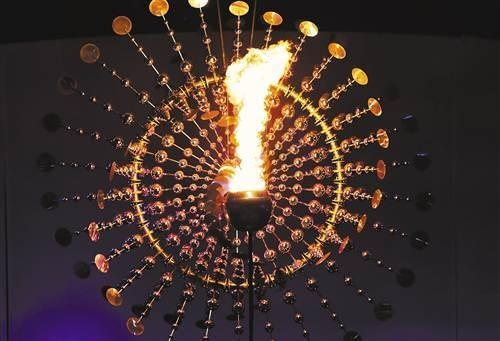fire: (218, 39, 295, 193)
